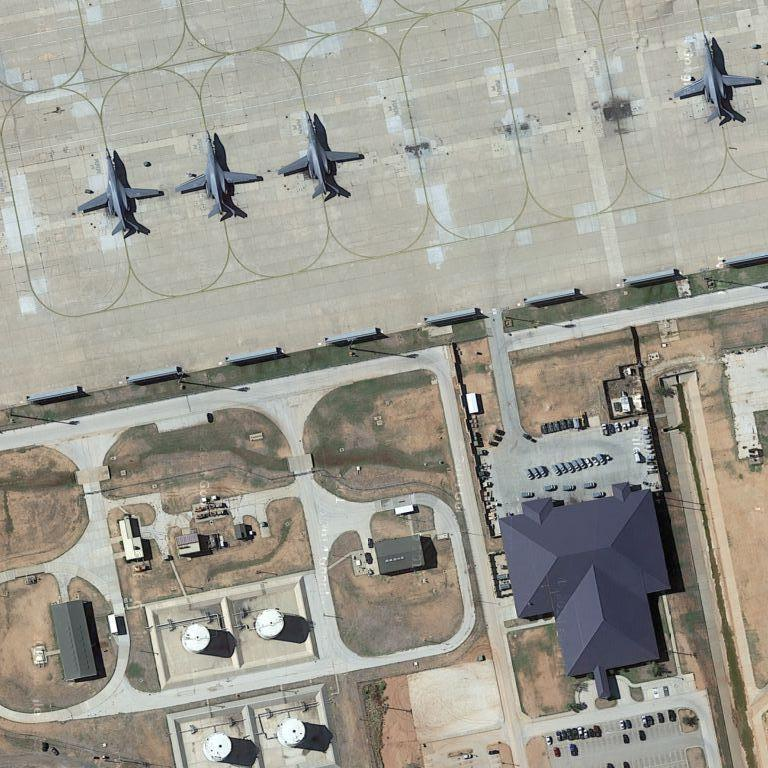B-1B: (174, 125, 268, 227), (75, 144, 167, 243), (673, 32, 762, 130), (279, 106, 367, 202)
